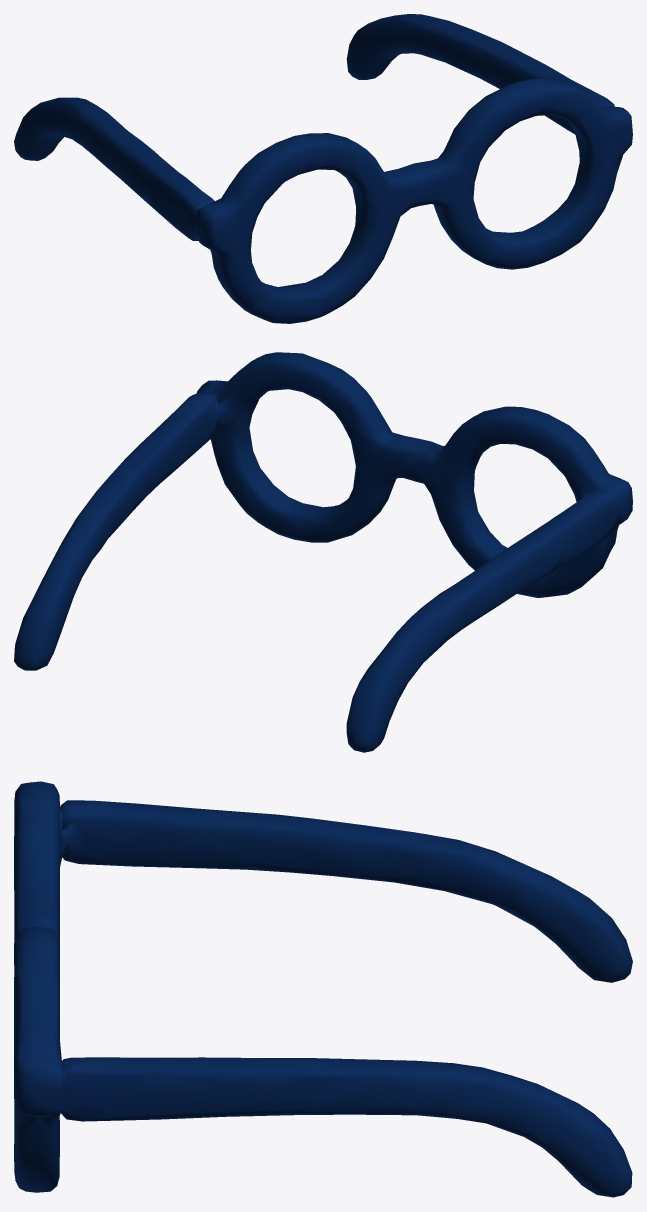
The model's file is glasses.glb.
3 renders of one model, top to bottom at view 1: azimuth 30°, elevation 25°; view 2: azimuth 150°, elevation 25°; view 3: azimuth 270°, elevation 25°, orthographic. The views are drawn at different scales.
Visible parts, largest first — view 1: glasses; view 2: glasses; view 3: glasses.
Part boxes in pixels (box(x1,y1,x2,y2)): glasses: box(14, 14, 632, 323); glasses: box(14, 352, 632, 752); glasses: box(14, 781, 632, 1197).
Bounding box in the file's own units: 1 × 0.4056 × 0.955.
Materials: 1 (1 with a texture image).
